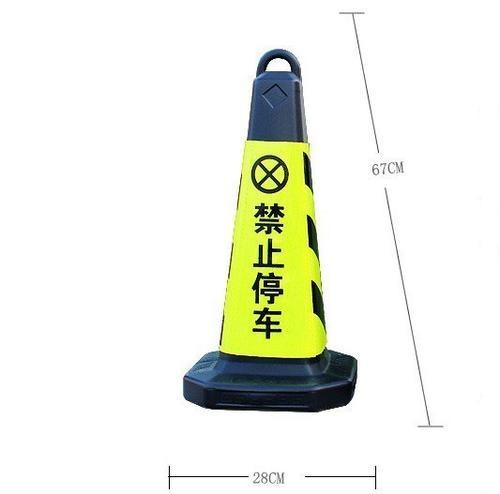cone_barrel: (184, 51, 351, 412)
